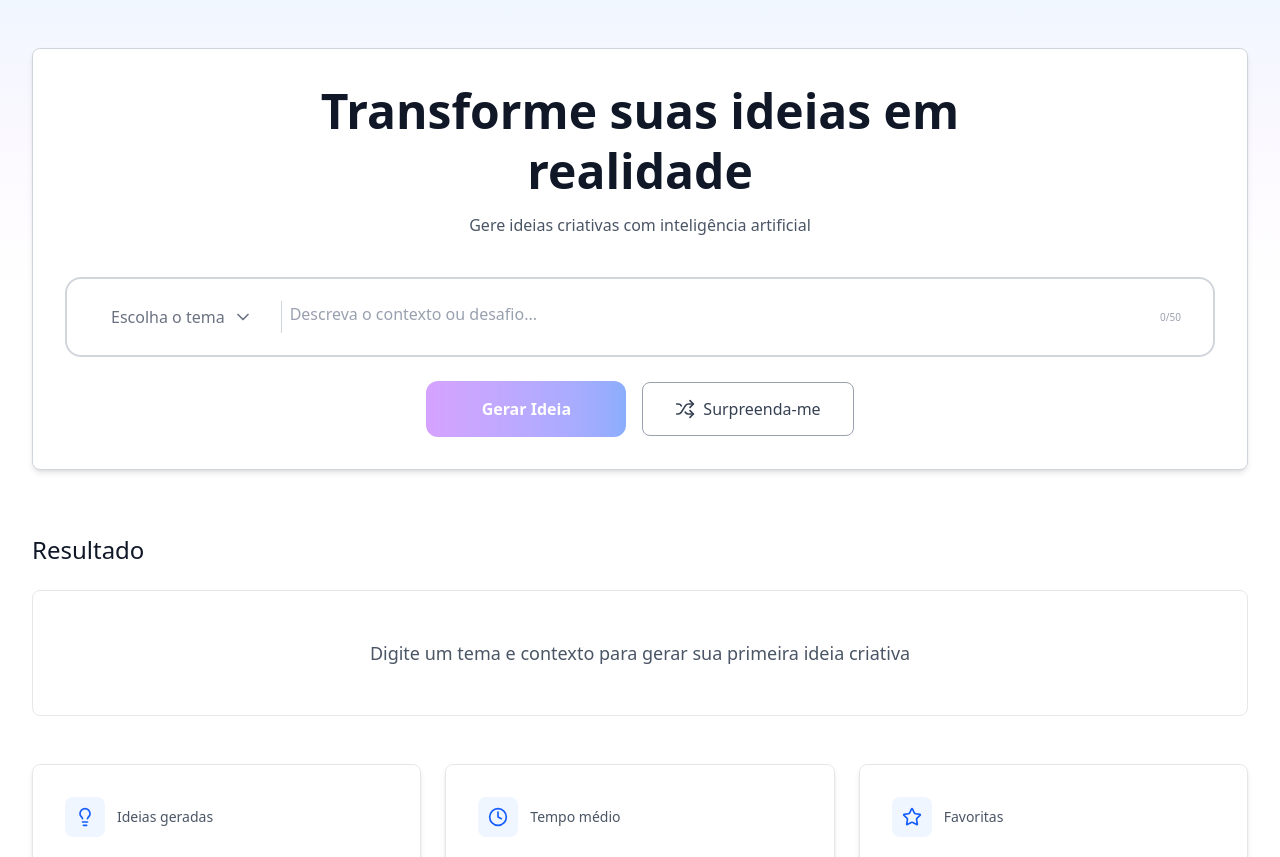
Test: GeneratorPage › o botão "Surpreenda-me" preenche tema/contexto e gera uma ideia
The width and height of the screenshot is (1280, 857).
Step 1. Click the button "Surpreenda-me" → (748, 409), box [642, 382, 854, 436]
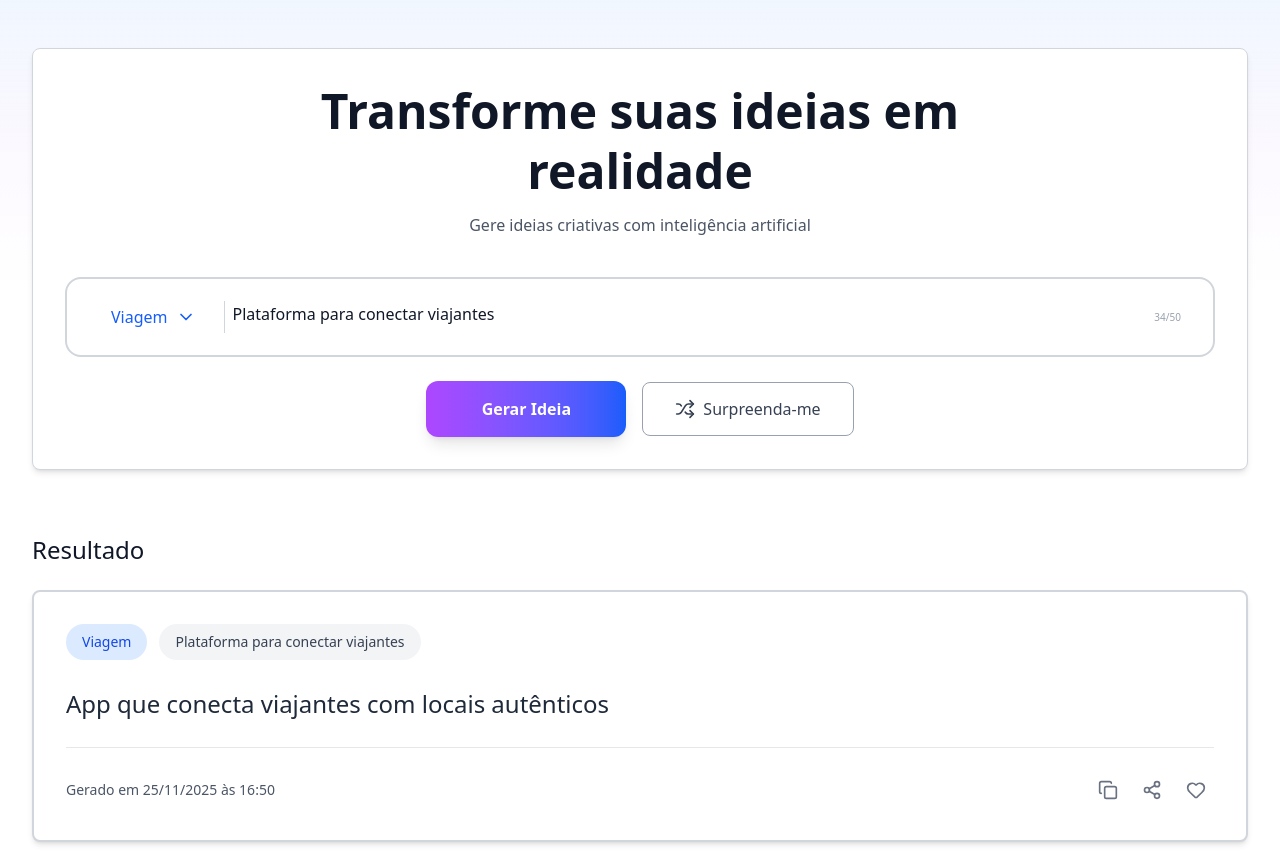
Now the text "App que conecta viajantes com locais autênticos" is shown, box [66, 687, 609, 720]
Now the text box with placeholder "Descreva o contexto ou desafio..." is not empty, box [232, 302, 1189, 326]
